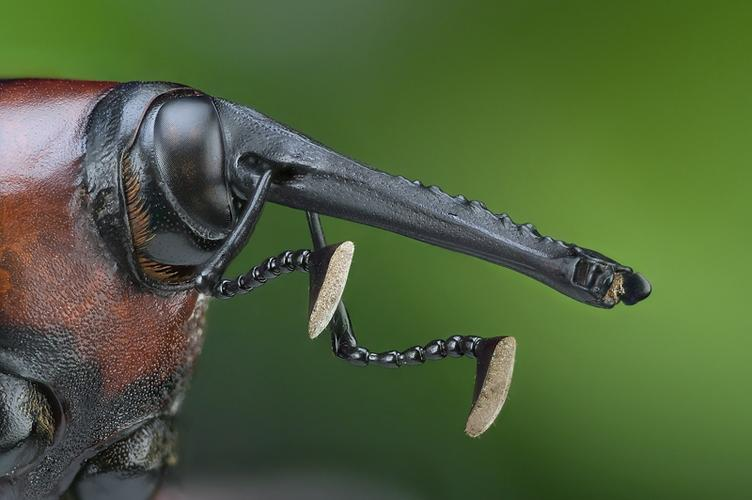Curculionidae: (1, 75, 652, 500)
